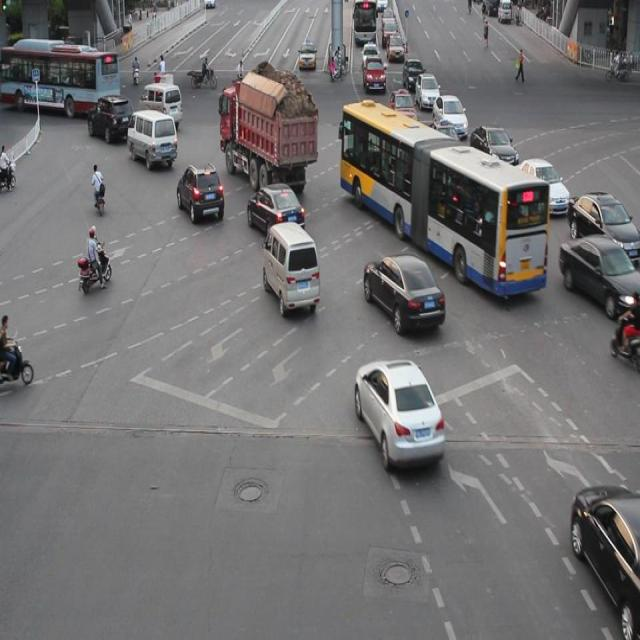bus: (218, 82, 316, 192)
car: (568, 481, 640, 640), (354, 358, 444, 468), (559, 234, 640, 325), (363, 252, 445, 333), (566, 189, 640, 265), (246, 180, 305, 243), (468, 176, 523, 242), (512, 156, 568, 214), (177, 160, 223, 222), (89, 94, 135, 142), (469, 122, 517, 166), (425, 120, 464, 164), (431, 94, 468, 138), (387, 90, 416, 129)
truck: (262, 220, 320, 315), (127, 109, 178, 168), (139, 82, 183, 128)
van: (339, 102, 547, 294)
